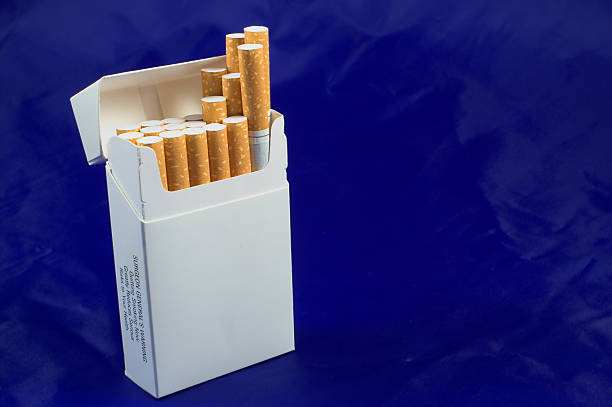cigarette: (71, 54, 297, 398), (236, 42, 269, 171), (159, 131, 190, 192), (138, 135, 168, 193), (182, 127, 211, 186), (224, 115, 252, 176), (204, 121, 231, 183), (221, 73, 243, 116), (200, 66, 227, 98), (225, 32, 244, 72), (200, 95, 227, 123), (244, 24, 268, 44)
